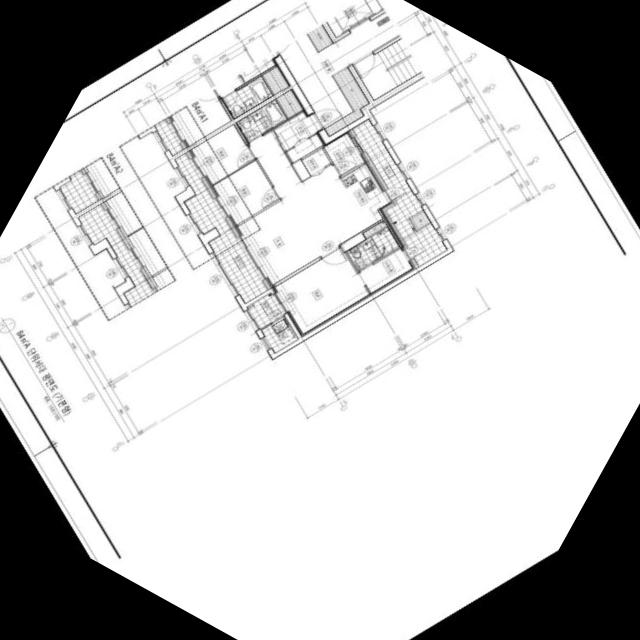background: (0, 0, 640, 640)
space_balconi: (352, 120, 446, 267), (175, 154, 267, 303), (247, 293, 283, 329)
space_bedroom: (273, 248, 370, 337), (211, 161, 278, 226), (189, 125, 254, 186)
space_dressroom: (359, 248, 415, 295)
space_front: (273, 111, 323, 164)
space_kitchen: (302, 163, 389, 244)
space_living_room: (239, 132, 339, 284)
space_other: (324, 131, 366, 176), (301, 149, 330, 175), (277, 90, 303, 118), (362, 221, 386, 238), (411, 212, 429, 229)
space_outdoor_room: (261, 317, 297, 353)
space_toilet: (347, 227, 398, 271), (236, 100, 286, 143)
